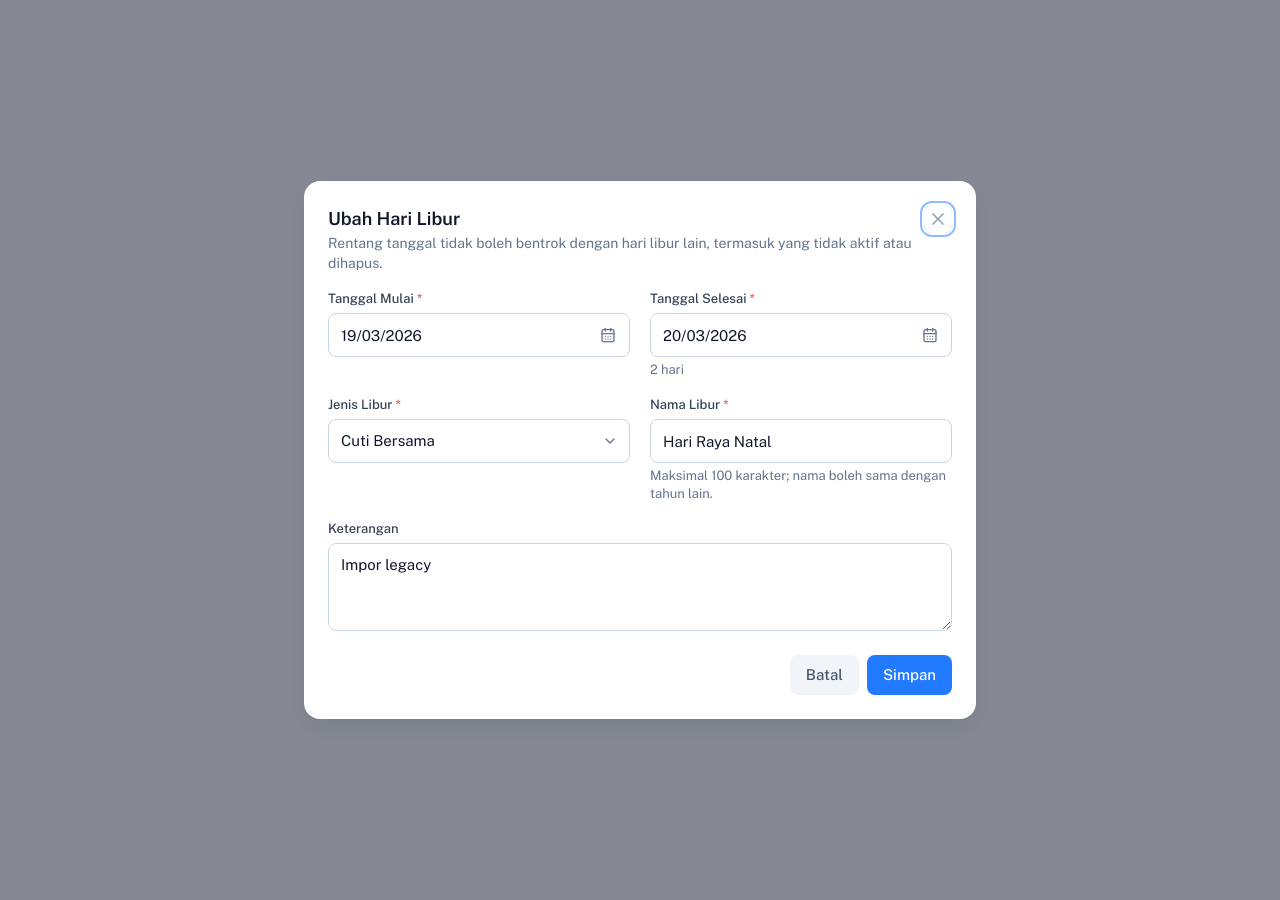
Test: HariLiburFormDialog › ubah rentang yang sudah ada: mengganti tanggal mulai tidak menimpa tanggal selesai
This screenshot has width=1280, height=900.
Replace the text in the field named "tgl_mulai" with "2026-03-18" at (479, 335), box [328, 313, 630, 357]
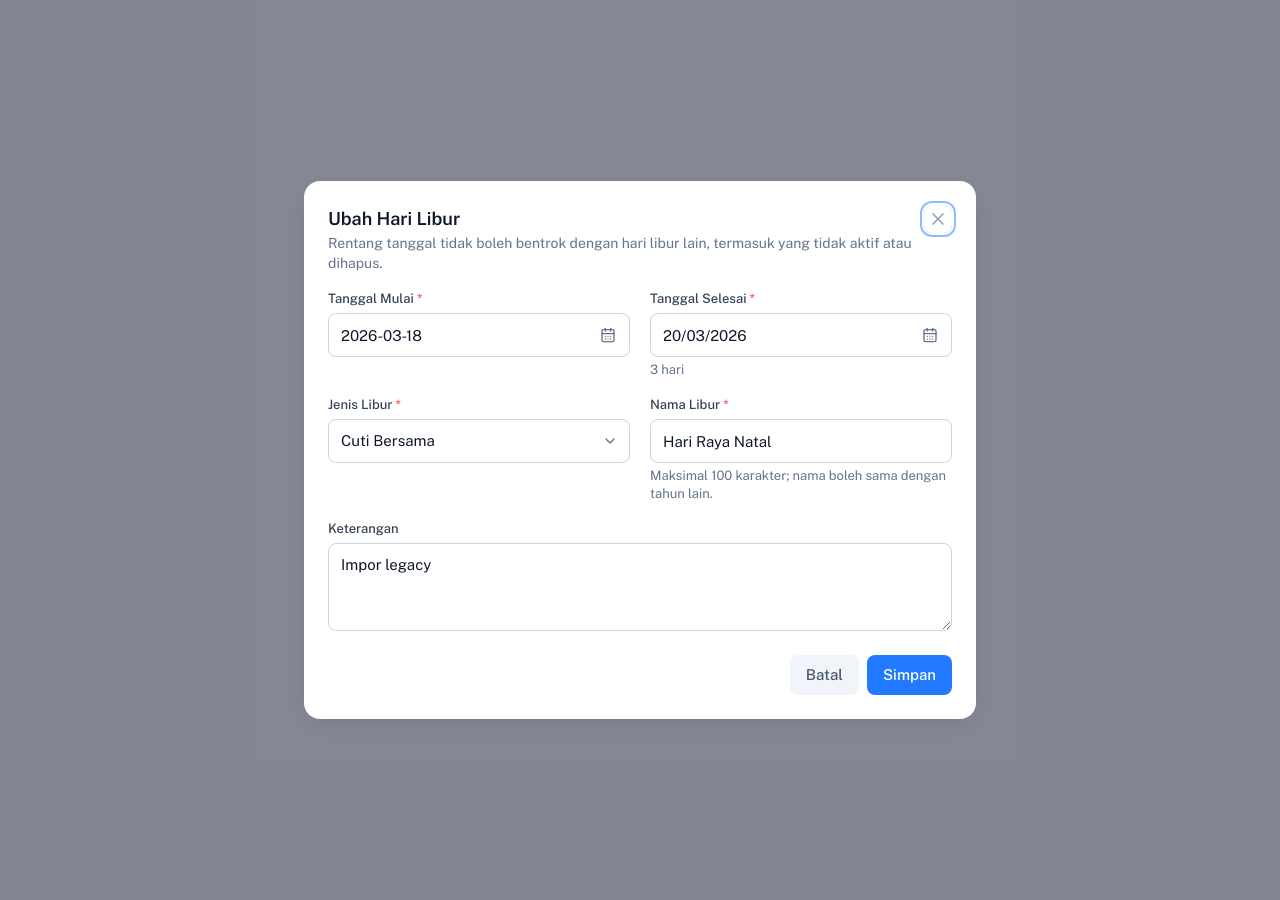
Expected: the field named "tgl_akhir" holds "20/03/2026", [650, 313, 952, 357]
Now the text "3 hari" is shown, box [650, 362, 684, 377]
